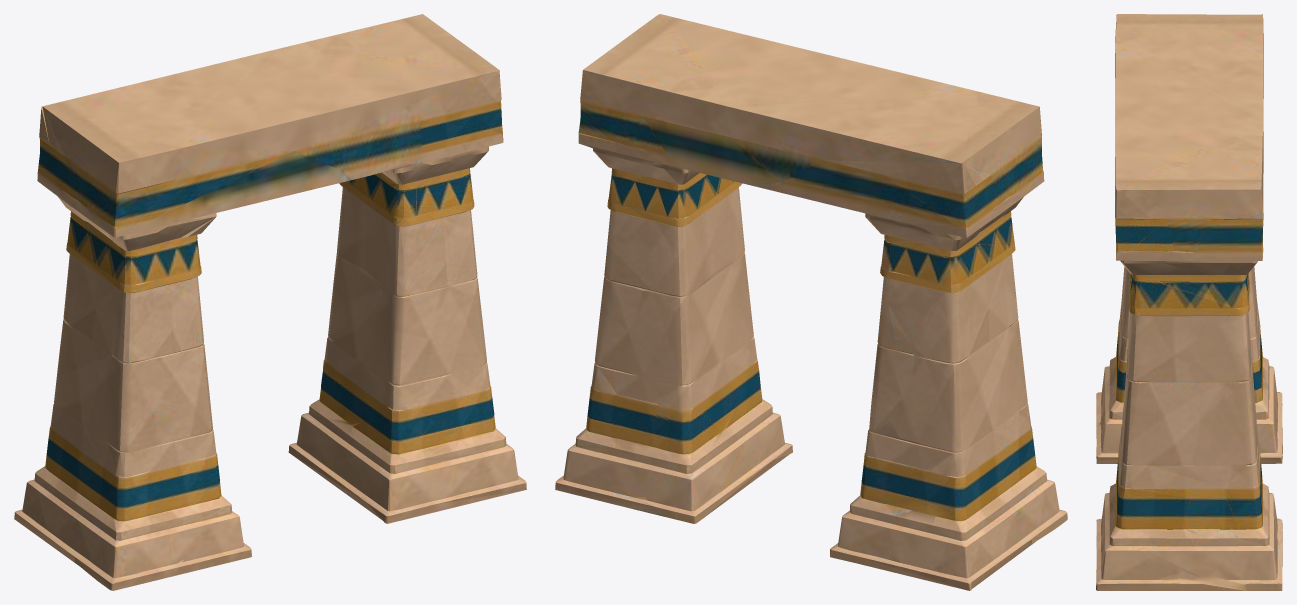
Rendered from egypt-palace-gate.glb.
3 renders of one model, left to right at view 1: azimuth 30°, elevation 25°; view 2: azimuth 150°, elevation 25°; view 3: azimuth 270°, elevation 25°, orthographic. The views are drawn at different scales.
Bounding box in the file's own units: 1.9 × 1.81 × 0.7812.
1 material, 1 textured.
